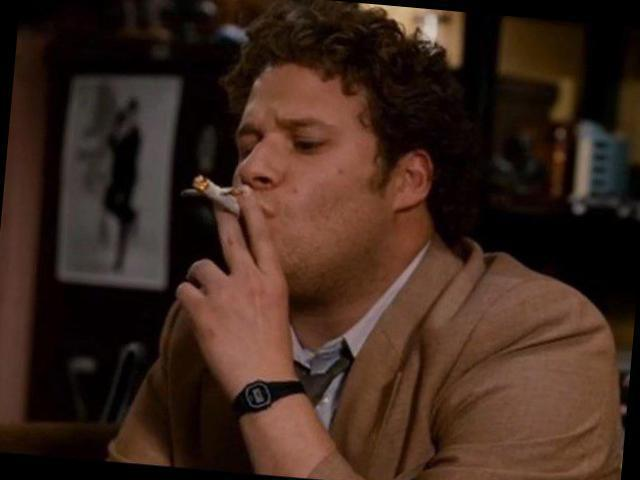Drunk: (233, 63, 393, 290)
